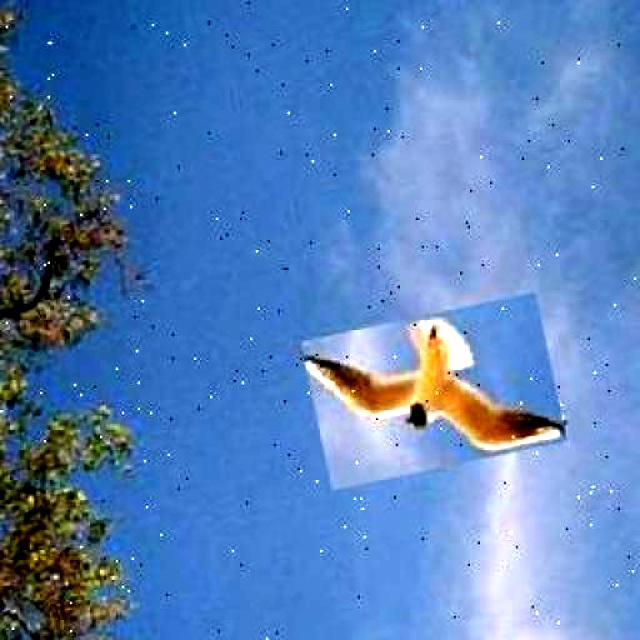airplane: (301, 291, 568, 489)
